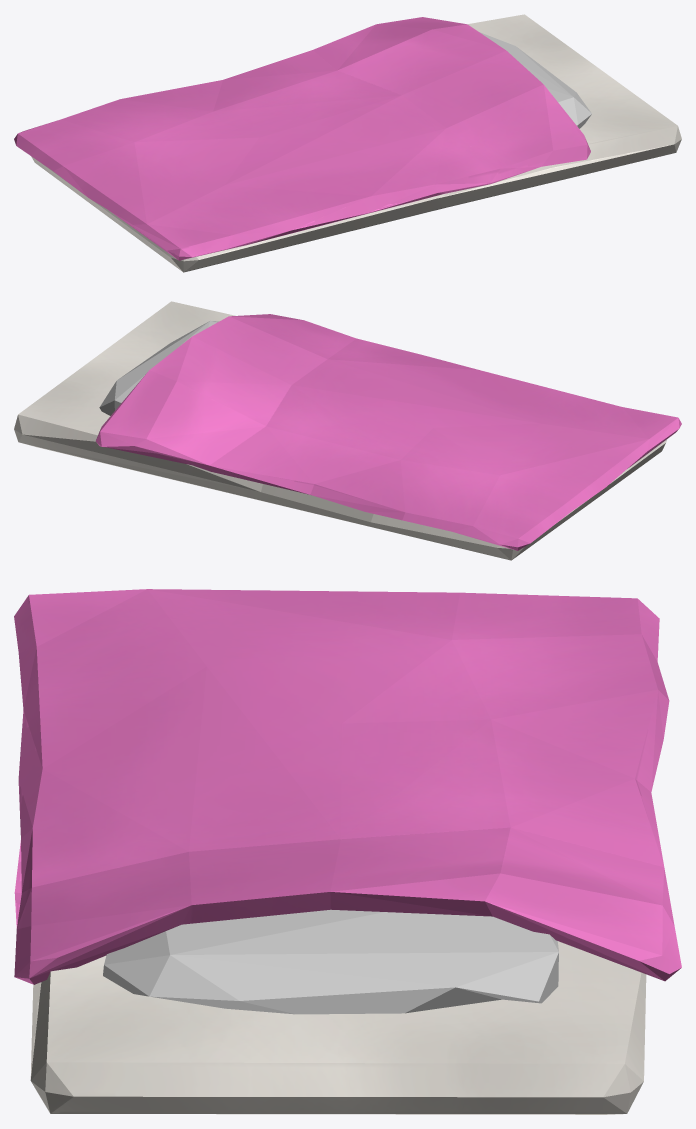
File: SleepingBag.fbx
3 renders of one model, top to bottom at view 1: azimuth 30°, elevation 25°; view 2: azimuth 150°, elevation 25°; view 3: azimuth 270°, elevation 25°, orthographic. The views are drawn at different scales.
Parts seen in each view (by area): view 1: SleepingBag; view 2: SleepingBag; view 3: SleepingBag.
Part boxes in pixels (x1,y1,x2,y2): SleepingBag: (14,14,681,272); SleepingBag: (14,301,681,560); SleepingBag: (14,589,681,1114).
Bounding box in the file's own units: 208 × 29.55 × 123.
3 materials, 3 textured.
